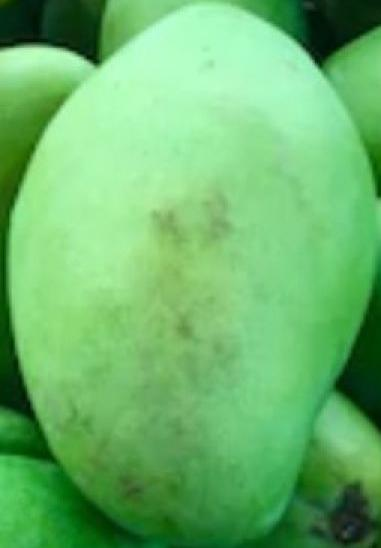Unripe: (1, 0, 381, 548)
